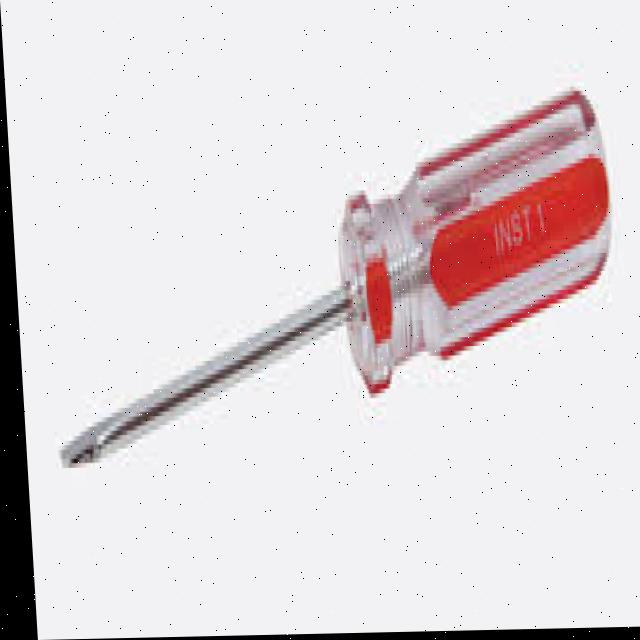Screwdriver: (55, 93, 606, 465)
